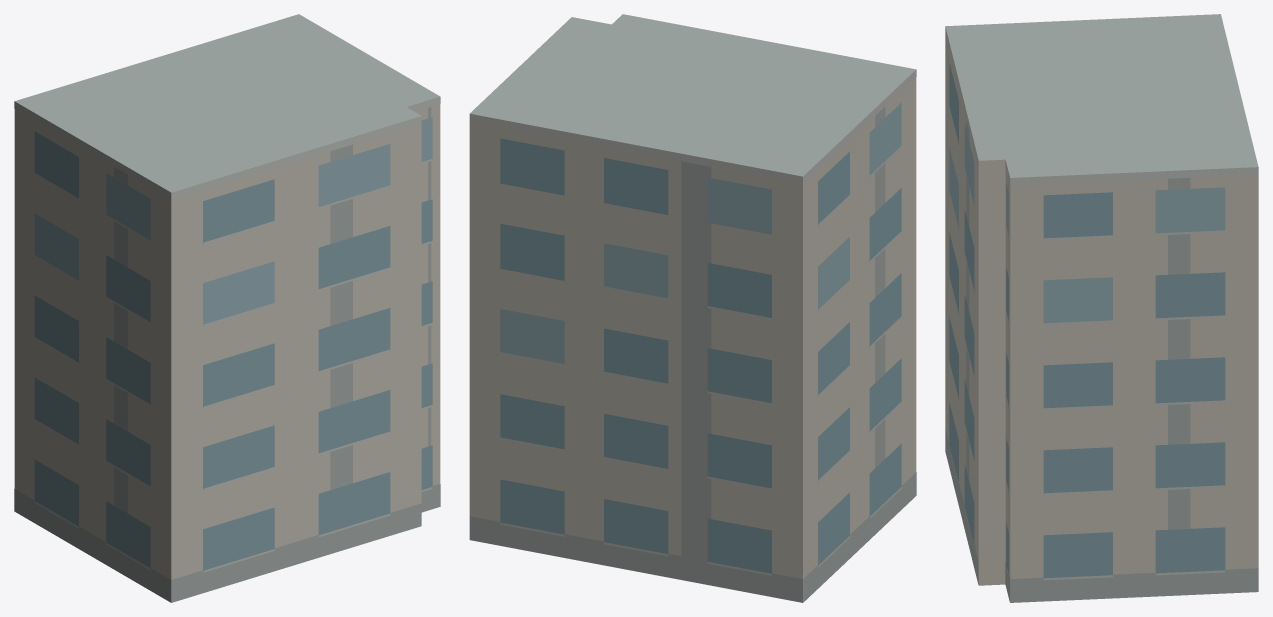
The model's file is residential-b1a0c959-c661-493c-92b0-05d873915ae1.glb.
3 views of the same model, side by side, from view 1: azimuth 30°, elevation 25°; view 2: azimuth 150°, elevation 25°; view 3: azimuth 270°, elevation 25° (orthographic). The views are drawn at different scales.
Visible parts, largest first — view 1: residential-b1a0c959-c661-493c-92b0-05d873915ae1.tmp; view 2: residential-b1a0c959-c661-493c-92b0-05d873915ae1.tmp; view 3: residential-b1a0c959-c661-493c-92b0-05d873915ae1.tmp.
Boxes of the visible parts, x1,y1,x2,y2 form: residential-b1a0c959-c661-493c-92b0-05d873915ae1.tmp: (14, 14, 440, 602); residential-b1a0c959-c661-493c-92b0-05d873915ae1.tmp: (469, 14, 916, 602); residential-b1a0c959-c661-493c-92b0-05d873915ae1.tmp: (945, 14, 1258, 602).
Size of the model in its own units: 11.14 by 13.45 by 9.
